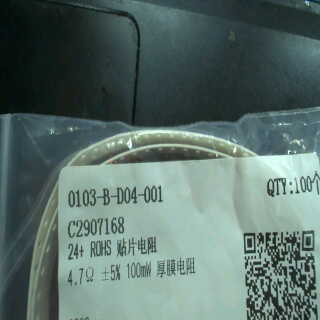4.7R: (63, 265, 102, 288)
